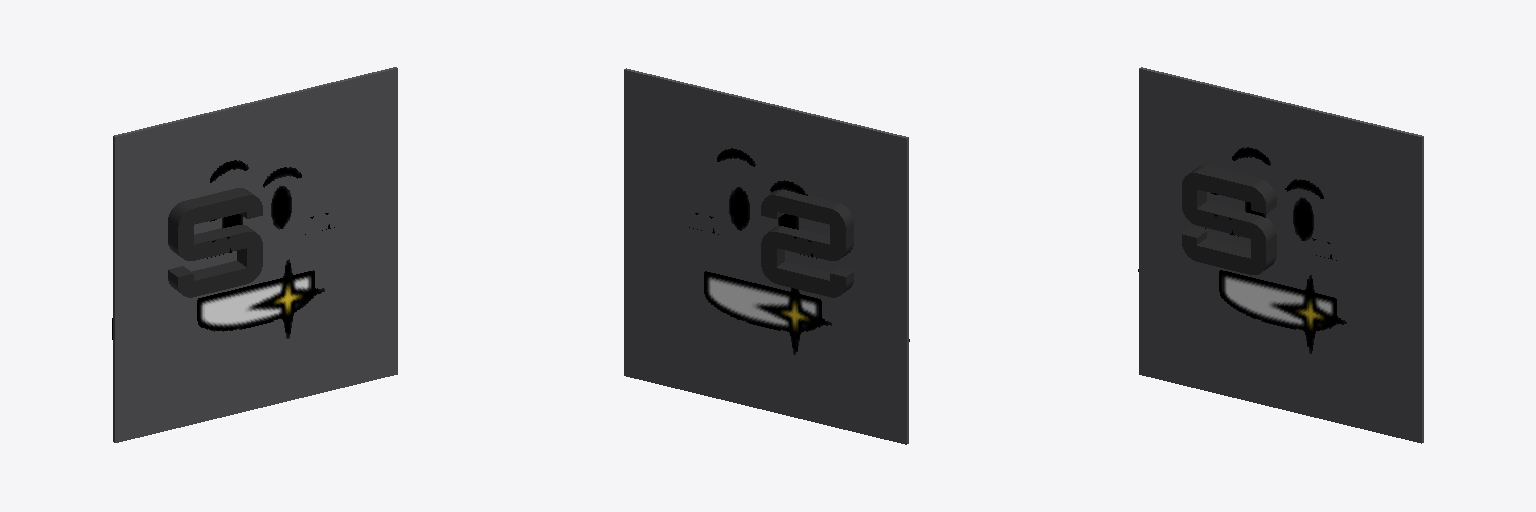
The picture shows the model from 3 angles: view 1: azimuth 30°, elevation 25°; view 2: azimuth 150°, elevation 25°; view 3: azimuth 330°, elevation 25°; orthographic projection.
Visible parts, largest first — view 1: WorkspaceTrollerSh1, S1, WorkspaceTrollerSh2; view 2: WorkspaceTrollerSh1, S1, WorkspaceTrollerSh3; view 3: WorkspaceTrollerSh1, S1, WorkspaceTrollerSh2.
Part boxes in pixels (x1,y1,x2,y2): WorkspaceTrollerSh1: (113,67,397,442); S1: (168,188,262,297); WorkspaceTrollerSh2: (197,160,324,338); WorkspaceTrollerSh1: (624,68,908,444); S1: (761,189,853,297); WorkspaceTrollerSh3: (704,148,831,354); WorkspaceTrollerSh1: (1139,67,1423,443); S1: (1182,165,1276,274); WorkspaceTrollerSh2: (1219,147,1346,353).
Size of the model in its own units: 4.02 by 4.14 by 0.54.
4 materials, 1 textured.